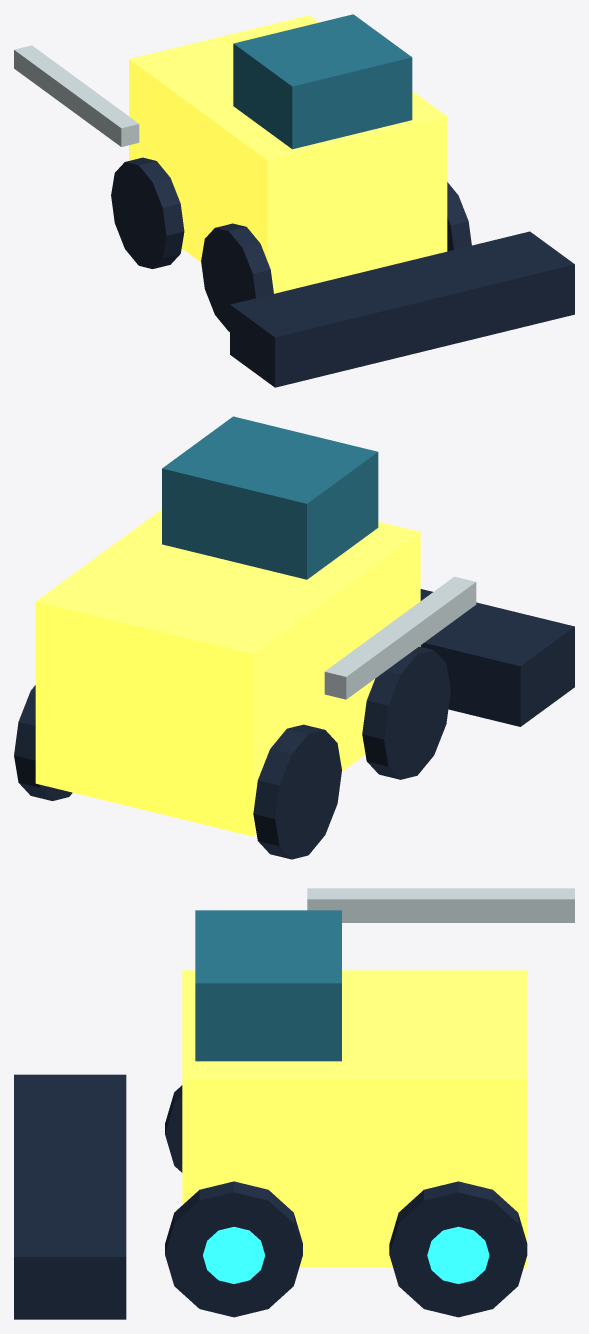
The model's file is PROP_harvester_20261005.glb.
3 renders of one model, top to bottom at view 1: azimuth 30°, elevation 25°; view 2: azimuth 150°, elevation 25°; view 3: azimuth 270°, elevation 25°, orthographic. The views are drawn at different scales.
Parts seen in each view (by area): view 1: VEH_Harvester, VEH_HarvesterHeader, VEH_HarvesterCab, VEH_Wheel.020, VEH_Wheel.021, VEH_HarvesterAuger, VEH_Wheel.023; view 2: VEH_Harvester, VEH_HarvesterCab, VEH_HarvesterHeader, VEH_Wheel.020, VEH_Wheel.021, VEH_HarvesterAuger, VEH_Wheel.022; view 3: VEH_Harvester, VEH_HarvesterHeader, VEH_HarvesterCab, VEH_Wheel.022, VEH_Wheel.023, VEH_HarvesterAuger, VEH_Hub.022, VEH_Hub.023, VEH_Wheel.021.
Part boxes in pixels (left/top/right/bottom): VEH_Harvester: left=129, top=15, right=447, bottom=293; VEH_HarvesterHeader: left=230, top=231, right=574, bottom=387; VEH_HarvesterCab: left=233, top=14, right=412, bottom=149; VEH_Wheel.020: left=111, top=157, right=184, bottom=268; VEH_Wheel.021: left=201, top=223, right=273, bottom=331; VEH_HarvesterAuger: left=14, top=45, right=139, bottom=146; VEH_Wheel.023: left=447, top=182, right=471, bottom=251; VEH_Harvester: left=35, top=509, right=420, bottom=836; VEH_HarvesterCab: left=162, top=416, right=378, bottom=579; VEH_HarvesterHeader: left=420, top=589, right=574, bottom=726; VEH_Wheel.020: left=253, top=724, right=341, bottom=859; VEH_Wheel.021: left=362, top=646, right=450, bottom=779; VEH_HarvesterAuger: left=324, top=576, right=476, bottom=699; VEH_Wheel.022: left=14, top=685, right=72, bottom=800; VEH_Harvester: left=182, top=970, right=527, bottom=1267; VEH_HarvesterHeader: left=14, top=1074, right=126, bottom=1319; VEH_HarvesterCab: left=195, top=910, right=341, bottom=1061; VEH_Wheel.022: left=389, top=1181, right=527, bottom=1317; VEH_Wheel.023: left=165, top=1181, right=302, bottom=1317; VEH_HarvesterAuger: left=307, top=888, right=574, bottom=922; VEH_Hub.022: left=427, top=1226, right=489, bottom=1283; VEH_Hub.023: left=203, top=1227, right=264, bottom=1283; VEH_Wheel.021: left=165, top=1085, right=182, bottom=1172.
Bounding box in the file's own units: 5.6 × 3.9 × 6.5.
